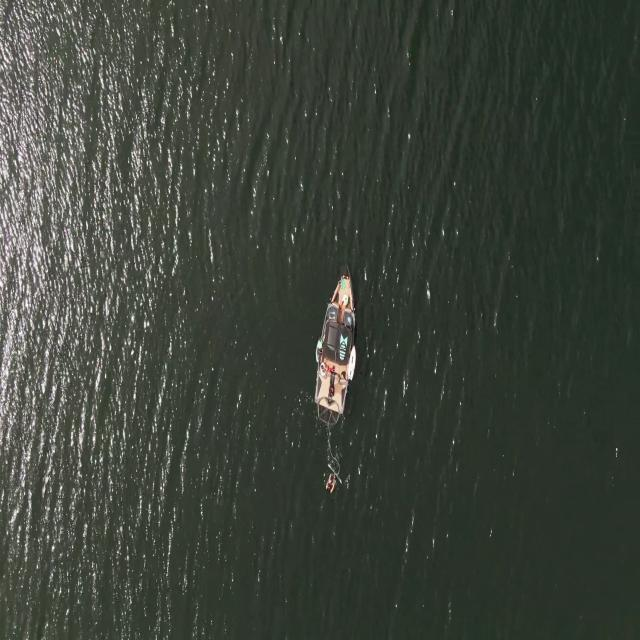ship: (312, 267, 361, 423), (349, 345, 356, 377)
